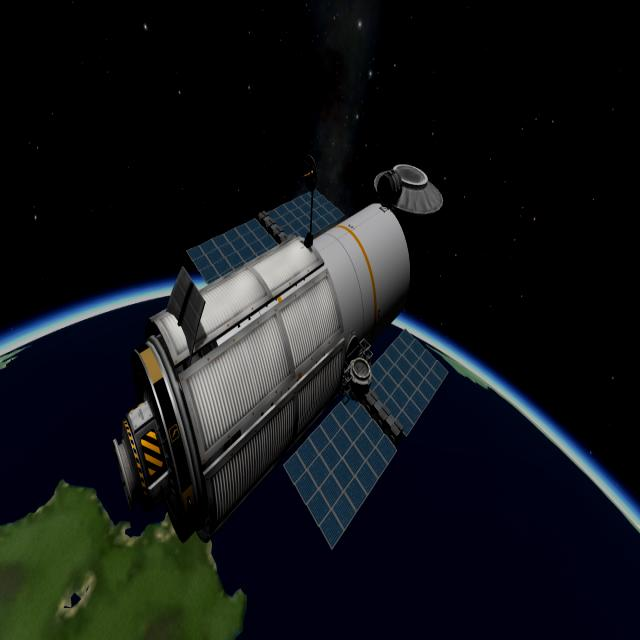medium_debris: (106, 140, 464, 555)
